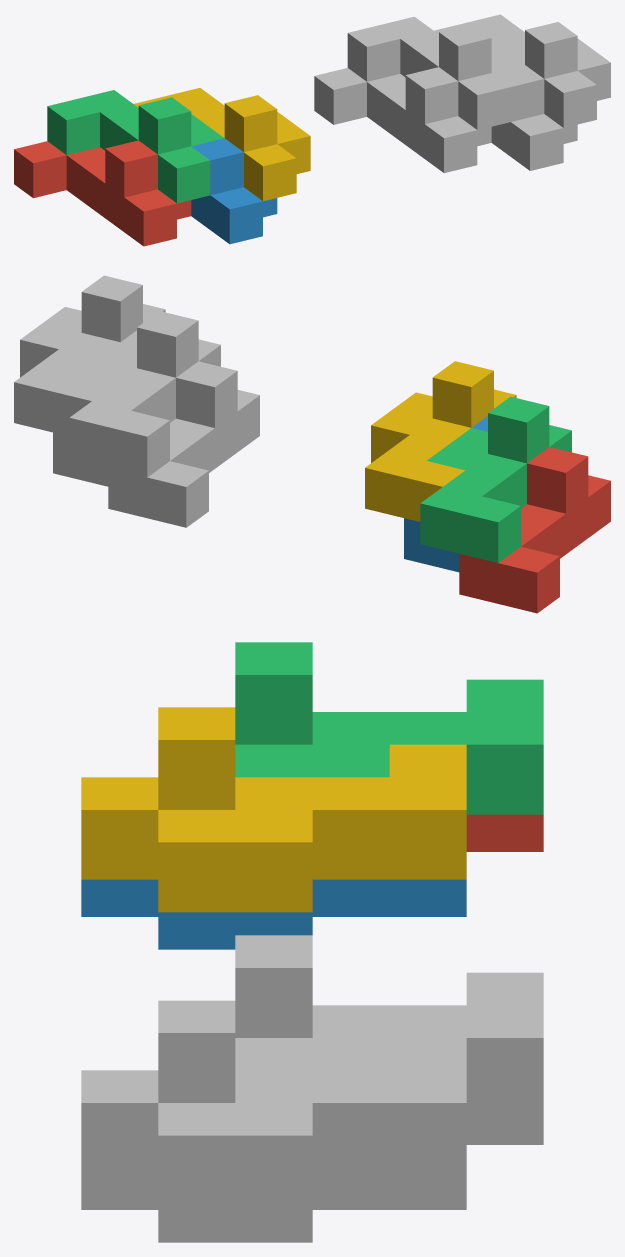
The model's file is tiling.obj.
3 renders of one model, top to bottom at view 1: azimuth 30°, elevation 25°; view 2: azimuth 150°, elevation 25°; view 3: azimuth 270°, elevation 25°, orthographic. The views are drawn at different scales.
Visible parts, largest first — view 1: copy_1_domain_5, copy_1_domain_1, copy_1_domain_7, copy_1_domain_3, copy_1_domain_4, copy_1_domain_8, copy_1_domain_6, copy_1_domain_2; view 2: copy_1_domain_7, copy_1_domain_3, copy_1_domain_1, copy_1_domain_5, copy_1_domain_4, copy_1_domain_8, copy_1_domain_6, copy_1_domain_2; view 3: copy_1_domain_4, copy_1_domain_8, copy_1_domain_3, copy_1_domain_7, copy_1_domain_6, copy_1_domain_2, copy_1_domain_1, copy_1_domain_5.
Boxes of the visible parts, left/top/right/bottom form: copy_1_domain_5: left=314, top=67, right=491, bottom=173; copy_1_domain_1: left=14, top=140, right=191, bottom=246; copy_1_domain_7: left=347, top=16, right=524, bottom=129; copy_1_domain_3: left=47, top=90, right=224, bottom=203; copy_1_domain_4: left=134, top=88, right=310, bottom=201; copy_1_domain_8: left=434, top=14, right=610, bottom=127; copy_1_domain_6: left=491, top=65, right=577, bottom=170; copy_1_domain_2: left=191, top=138, right=277, bottom=244; copy_1_domain_7: left=69, top=311, right=220, bottom=477; copy_1_domain_3: left=420, top=396, right=571, bottom=562; copy_1_domain_1: left=459, top=447, right=610, bottom=613; copy_1_domain_5: left=108, top=361, right=259, bottom=527; copy_1_domain_4: left=365, top=361, right=516, bottom=521; copy_1_domain_8: left=14, top=275, right=165, bottom=436; copy_1_domain_6: left=53, top=330, right=136, bottom=486; copy_1_domain_2: left=404, top=416, right=487, bottom=572; copy_1_domain_4: left=81, top=707, right=466, bottom=912; copy_1_domain_8: left=81, top=1000, right=466, bottom=1205; copy_1_domain_3: left=235, top=642, right=543, bottom=814; copy_1_domain_7: left=235, top=935, right=543, bottom=1107; copy_1_domain_6: left=81, top=1173, right=466, bottom=1242; copy_1_domain_2: left=81, top=879, right=466, bottom=949; copy_1_domain_1: left=466, top=814, right=543, bottom=851; copy_1_domain_5: left=466, top=1107, right=543, bottom=1144.
Bounding box in the file's own units: 15 × 3 × 6.
